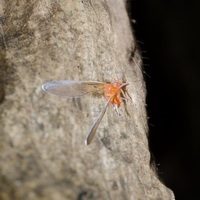insect: (42, 81, 127, 144)
